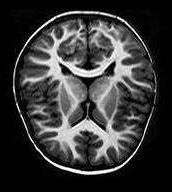Normal_Brain: (1, 23, 169, 192)
